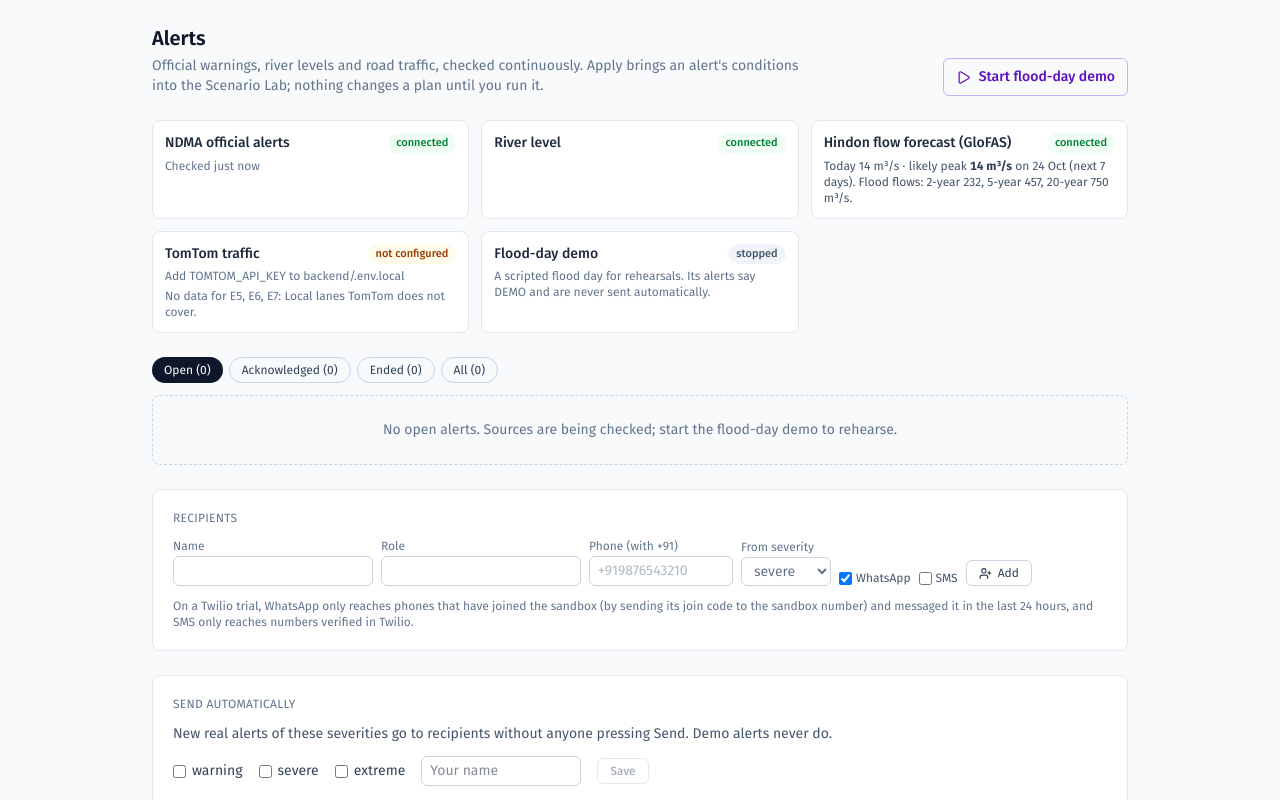
Test: AlertsView › shows each source's state and starts the flood-day demo
Expected: the text "Add TOMTOM_API_KEY to backend/.env.local" is shown, [165, 269, 404, 283]
Expected: the text "No data for E5, E6, E7: Local lanes TomTom does not cover." is shown, [165, 288, 456, 320]
Click the button "Start flood-day demo". click: (1035, 77)
box: [943, 58, 1128, 96]
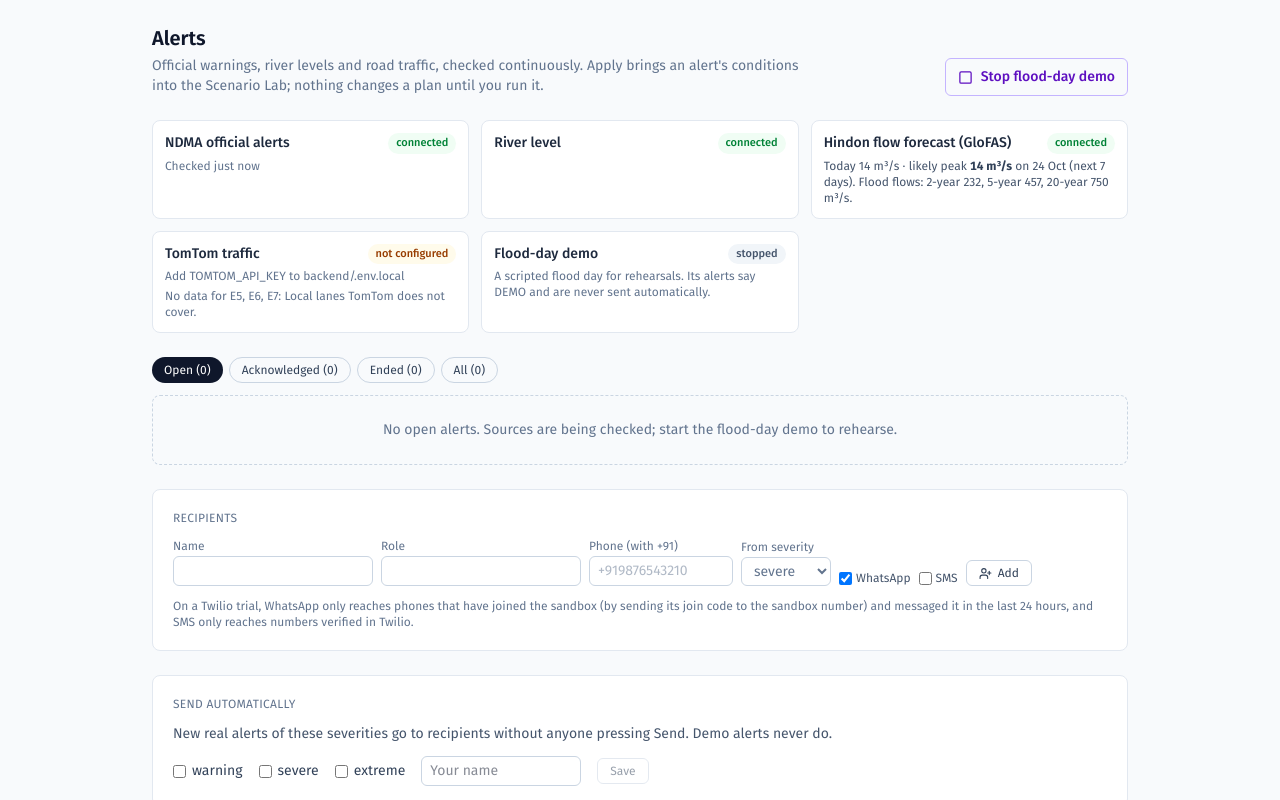
Expected: the button "Stop flood-day demo" is shown, [945, 58, 1128, 96]
